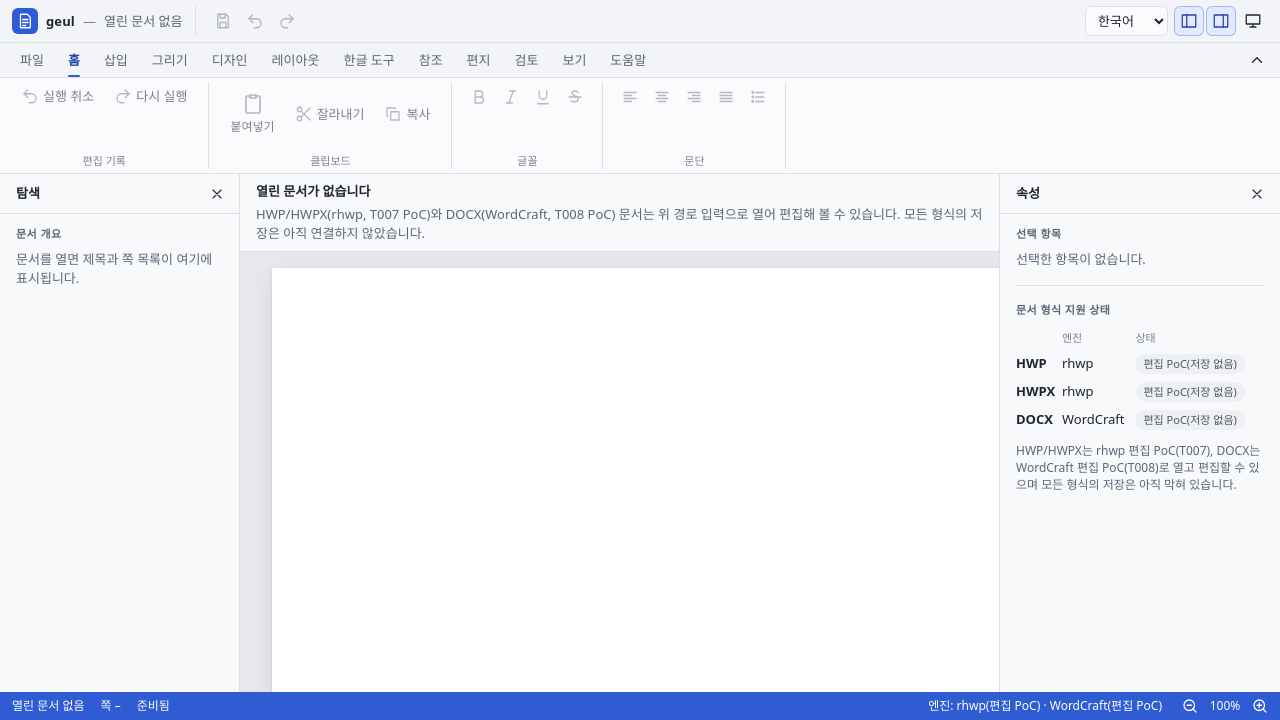
it: 패널 표시와 숨기기 › 탐색 창을 닫기 버튼으로 숨기고 제목 표시줄 토글로 되살리며 초점을 잃지 않는다
The width and height of the screenshot is (1280, 720).
Click the button named "탐색 창 닫기": (217, 194) [202,178,232,208]
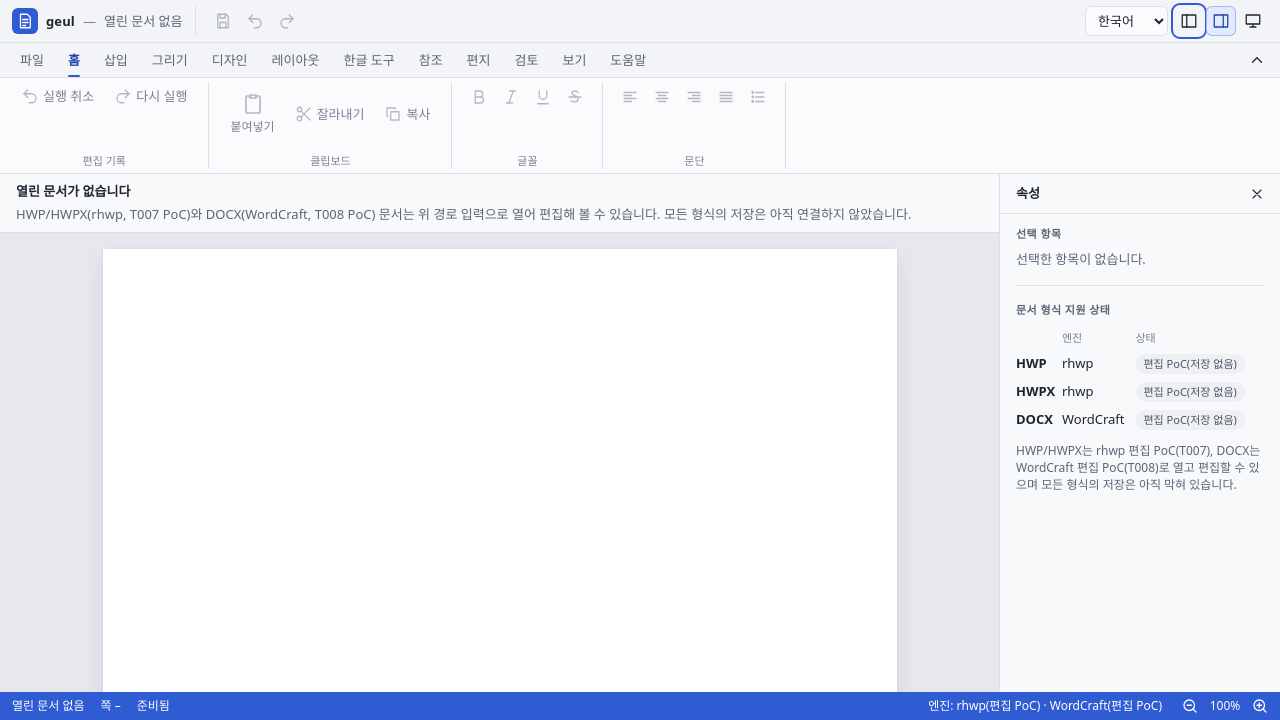
Now the heading "탐색" is gone
Press Enter
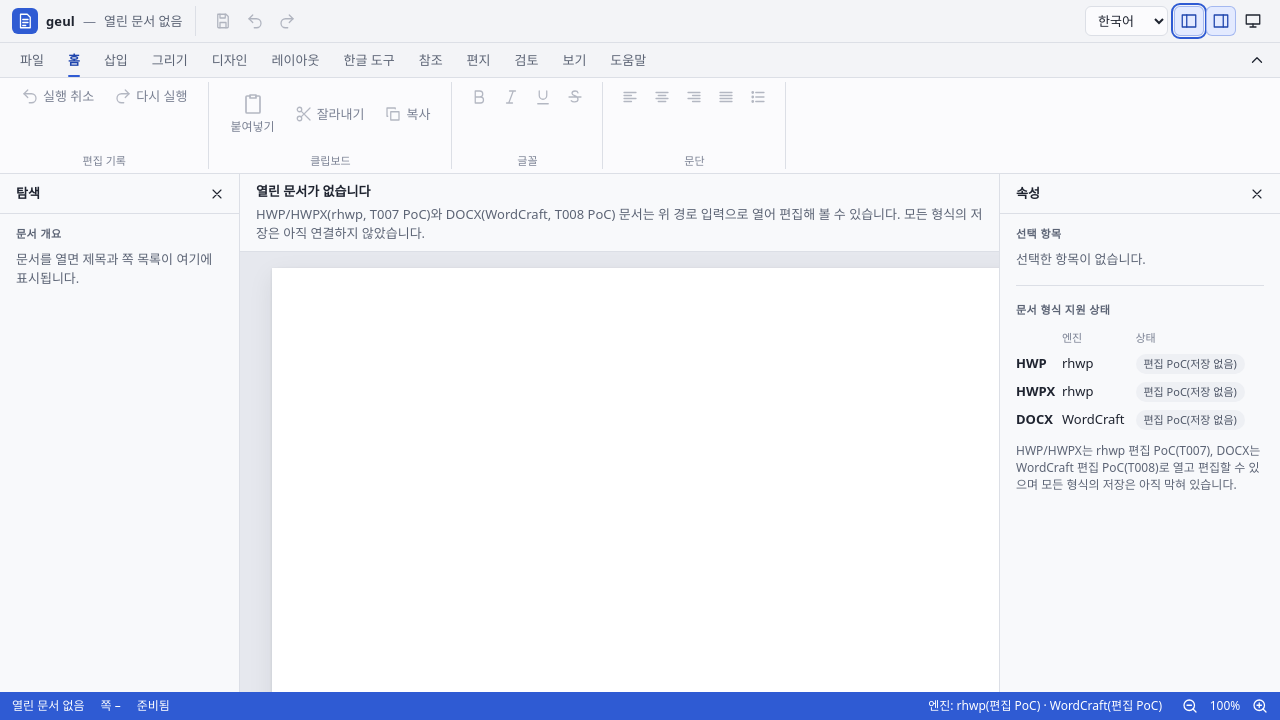
Now the element "탐색" is shown, box [0,174,240,692]
